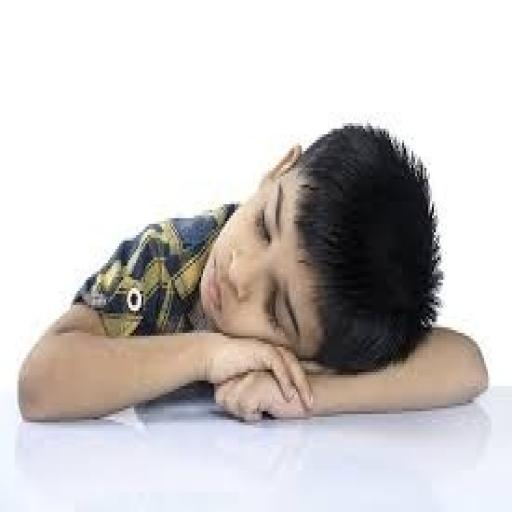sleeping: (15, 118, 490, 426)
